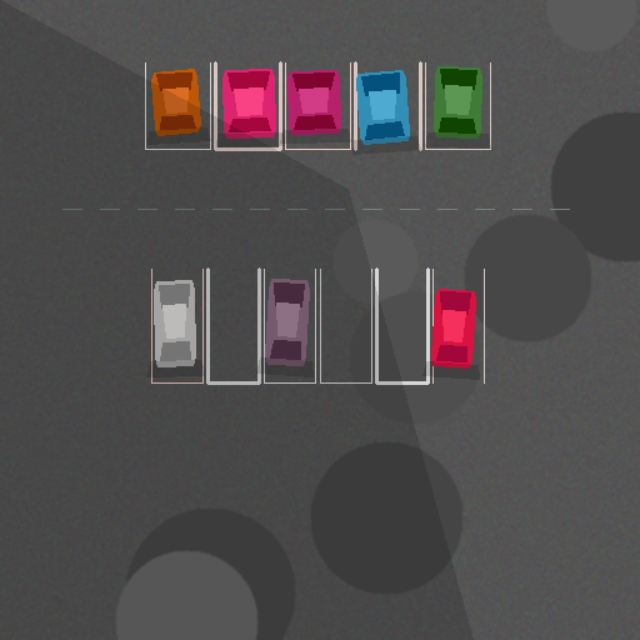space-empty: (376, 269, 428, 382), (208, 269, 259, 382), (320, 269, 371, 382)
space-occupied: (432, 269, 484, 382), (151, 269, 202, 382), (264, 269, 315, 382), (145, 62, 210, 149), (215, 62, 280, 149), (285, 62, 350, 149), (355, 62, 420, 149), (425, 62, 490, 149)
